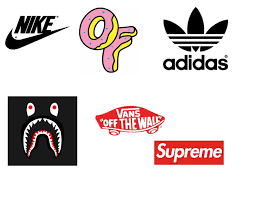adidas: (162, 6, 230, 70)
nike: (3, 26, 69, 50)
vans: (116, 108, 141, 118)
